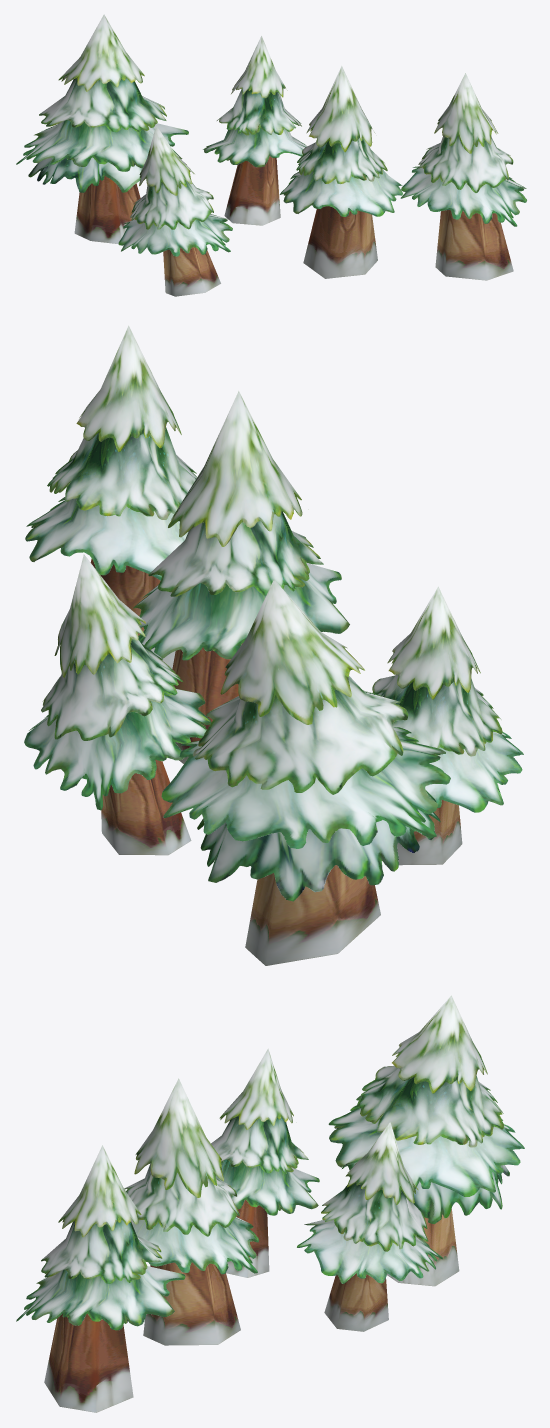
The model's file is SM_tree_07.fbx.
3 renders of one model, top to bottom at view 1: azimuth 30°, elevation 25°; view 2: azimuth 150°, elevation 25°; view 3: azimuth 270°, elevation 25°, orthographic. The views are drawn at different scales.
Visible parts, largest first — view 1: SM_tree_07; view 2: SM_tree_07; view 3: SM_tree_07.
Part boxes in pixels (x1,y1,x2,y2): SM_tree_07: (16,14,526,296); SM_tree_07: (24,325,523,965); SM_tree_07: (16,995,524,1412).
Size of the model in its own units: 6.18 by 3.53 by 6.02.
